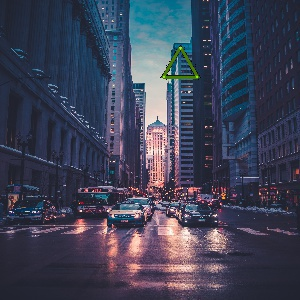triangle: (154, 44, 204, 82)
